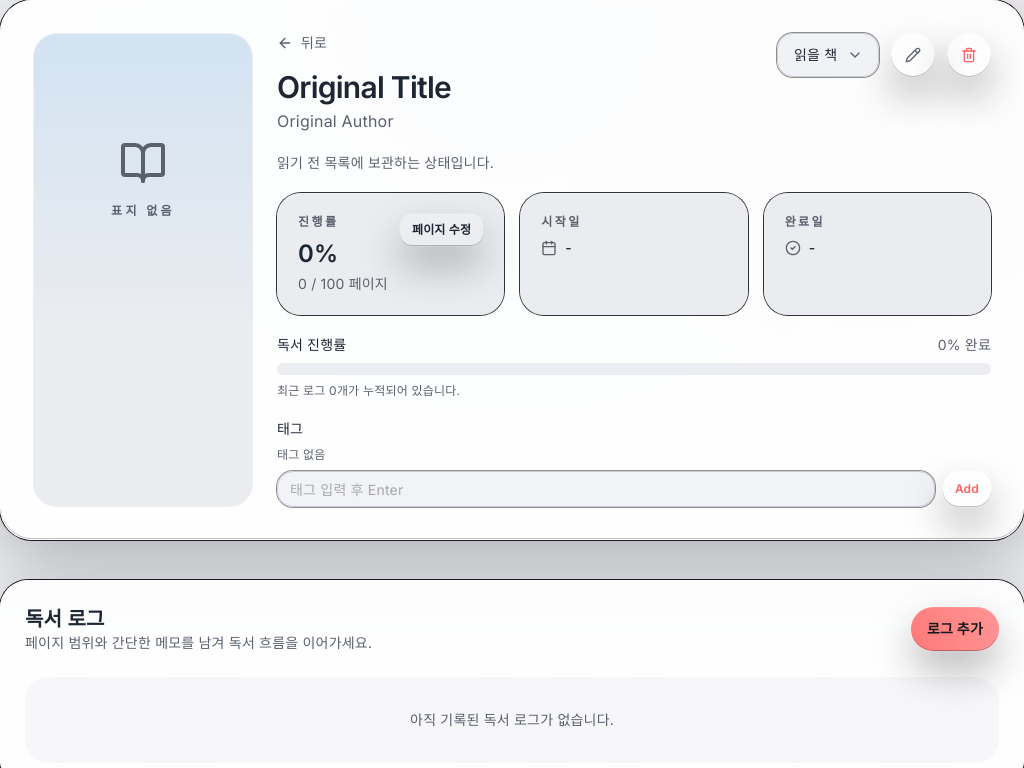
Test: BookDetailView › edits book details and saves changes
// Enter edit mode
Click the button named "Edit book" at (913, 55), box left=891, top=33, right=935, bottom=77
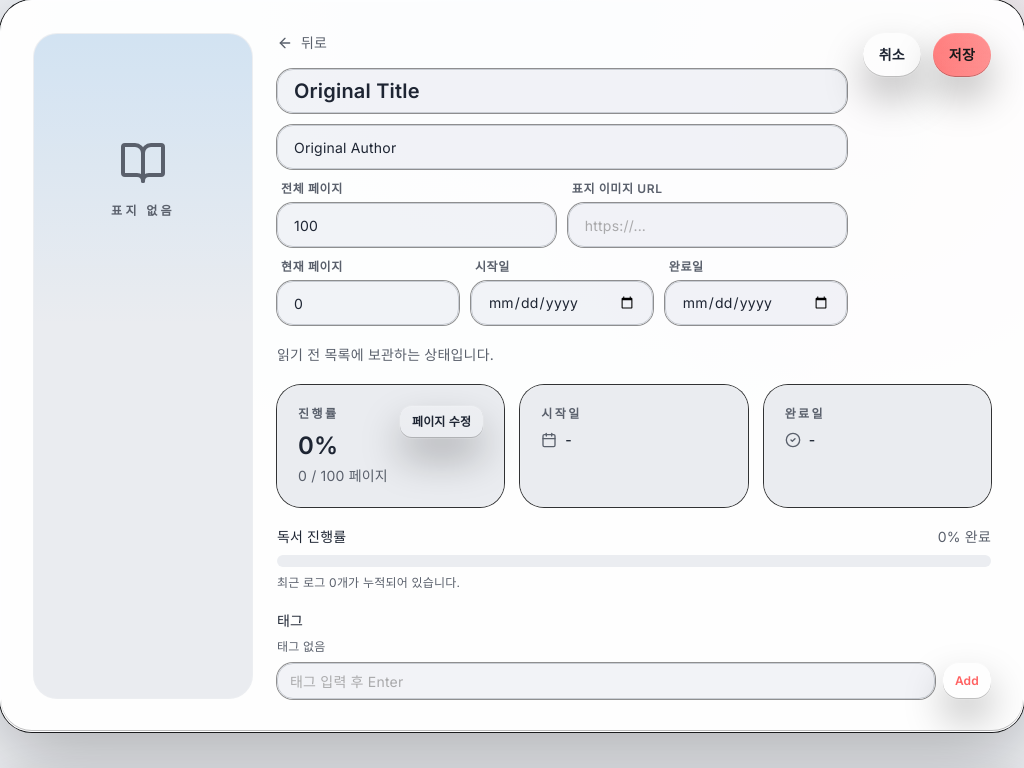
Now the 1st field with placeholder "책 제목" is shown
Now the 2nd field with placeholder "저자" is shown, box left=277, top=125, right=847, bottom=169
Now the number field labelled "현재 페이지" is shown, box left=277, top=281, right=459, bottom=325
// Modify values
Replace the text in the 1st field with placeholder "책 제목" with "Updated Title" at (562, 91), box left=277, top=69, right=847, bottom=113
Replace the text in the 2nd field with placeholder "저자" with "Updated Author" at (562, 147), box left=277, top=125, right=847, bottom=169
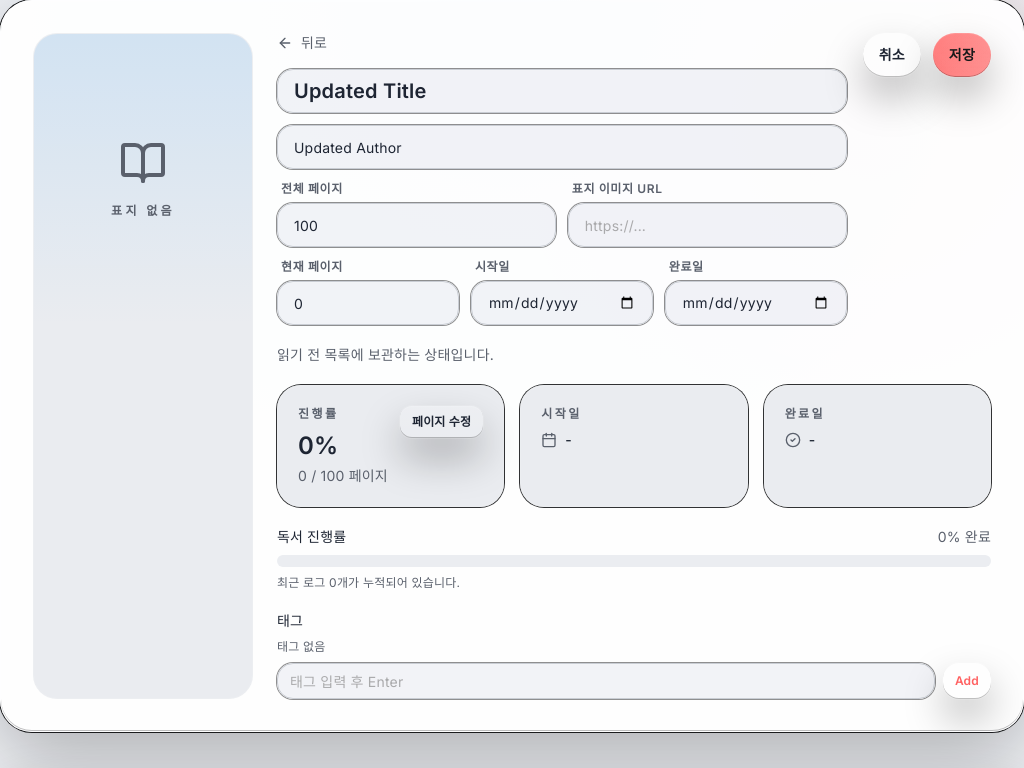
Now the number field labelled "전체 페이지" is shown
Replace the text in the number field labelled "전체 페이지" with "150" at (416, 225), box left=277, top=203, right=556, bottom=247
Replace the text in the number field labelled "현재 페이지" with "42" at (368, 303), box left=277, top=281, right=459, bottom=325
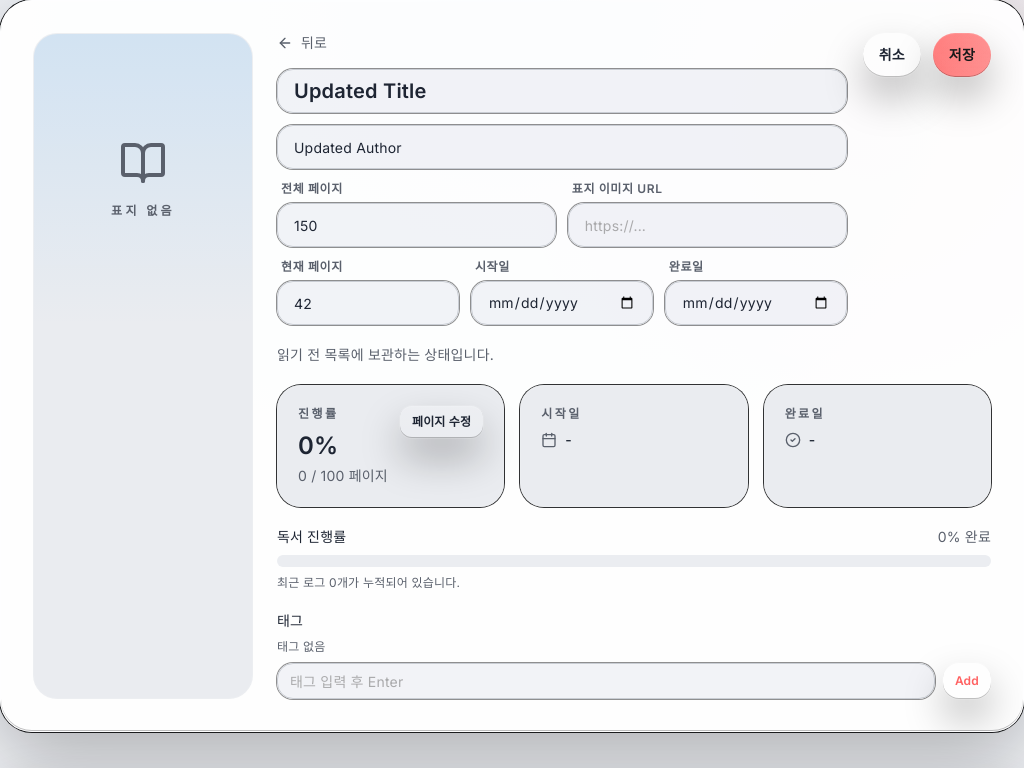
Type "2026-03-01" into the date field labelled "시작일" at (562, 303), box left=471, top=281, right=653, bottom=325
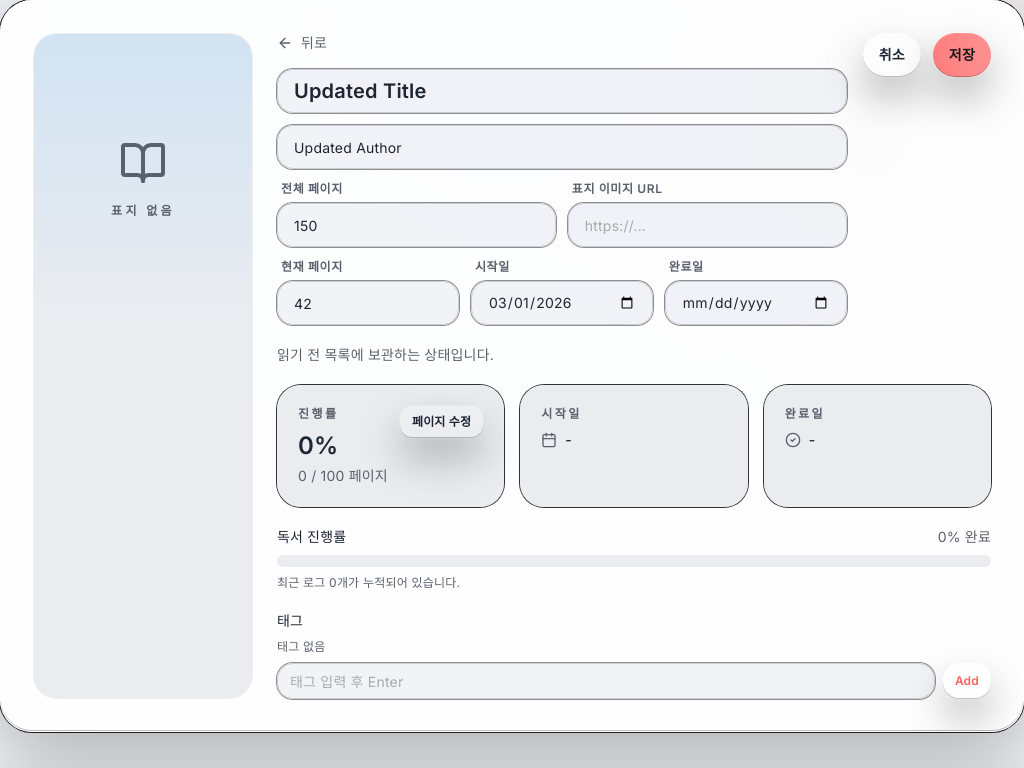
Type "2026-03-15" into the date field labelled "완료일" at (756, 303), box left=665, top=281, right=847, bottom=325
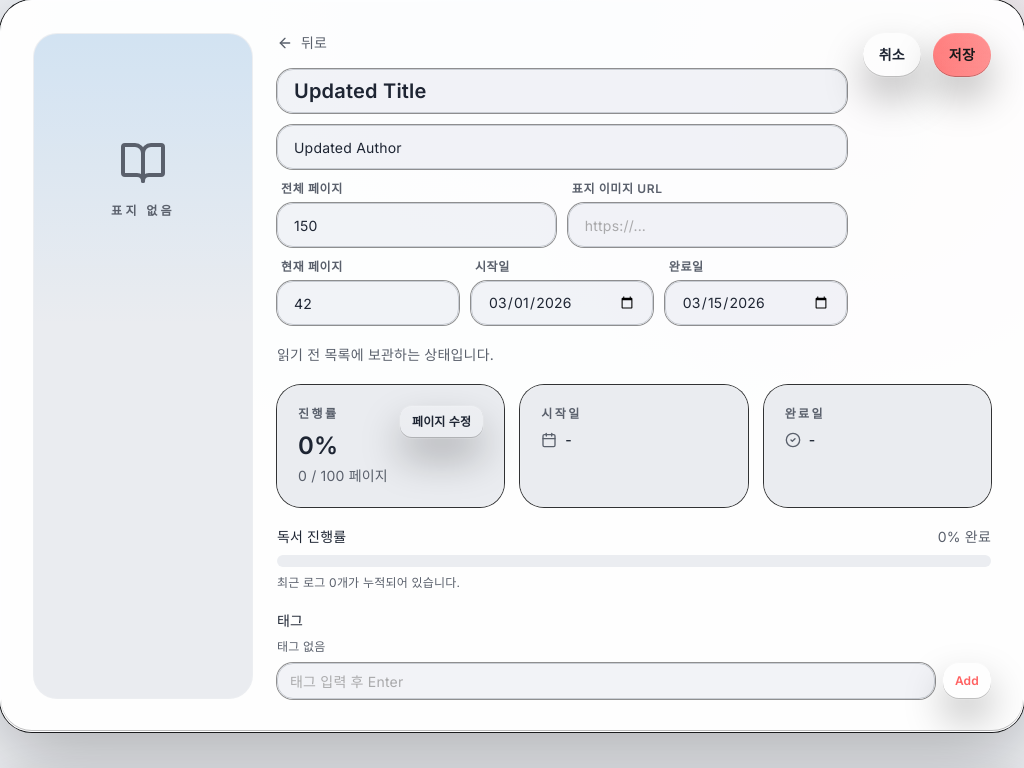
// Save changes
Click the button "저장" at (962, 55), box left=933, top=33, right=991, bottom=77
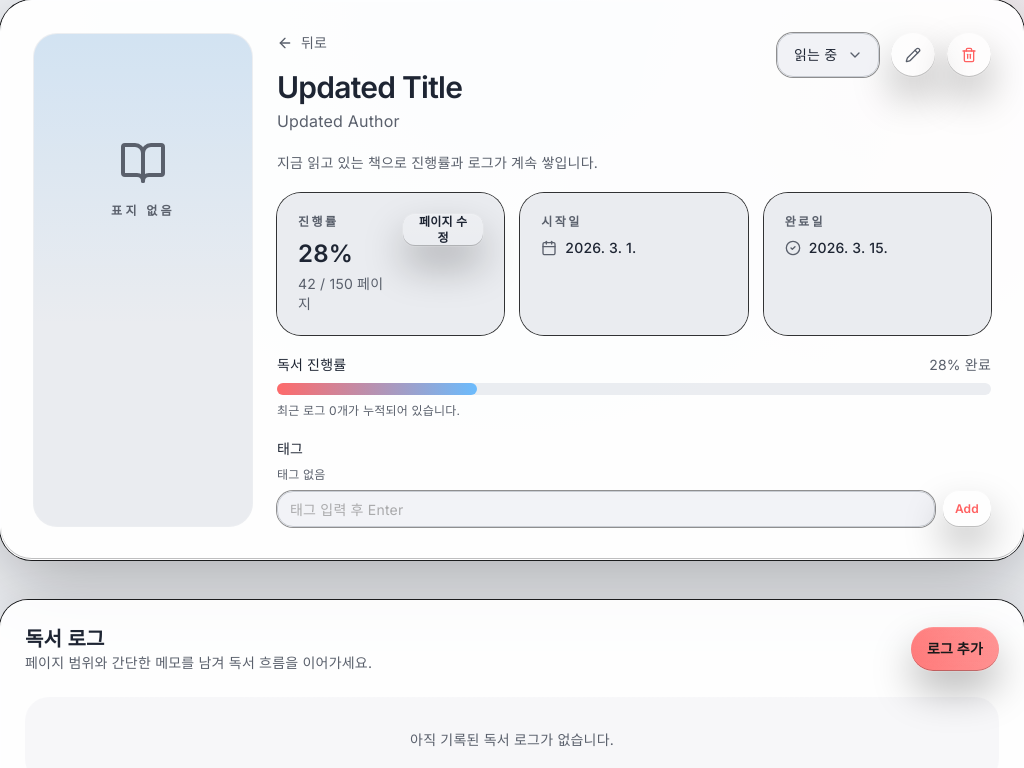
Now the heading "Updated Title" is shown, box left=277, top=69, right=462, bottom=105
Now the text "Updated Author" is shown, box left=277, top=111, right=400, bottom=131
